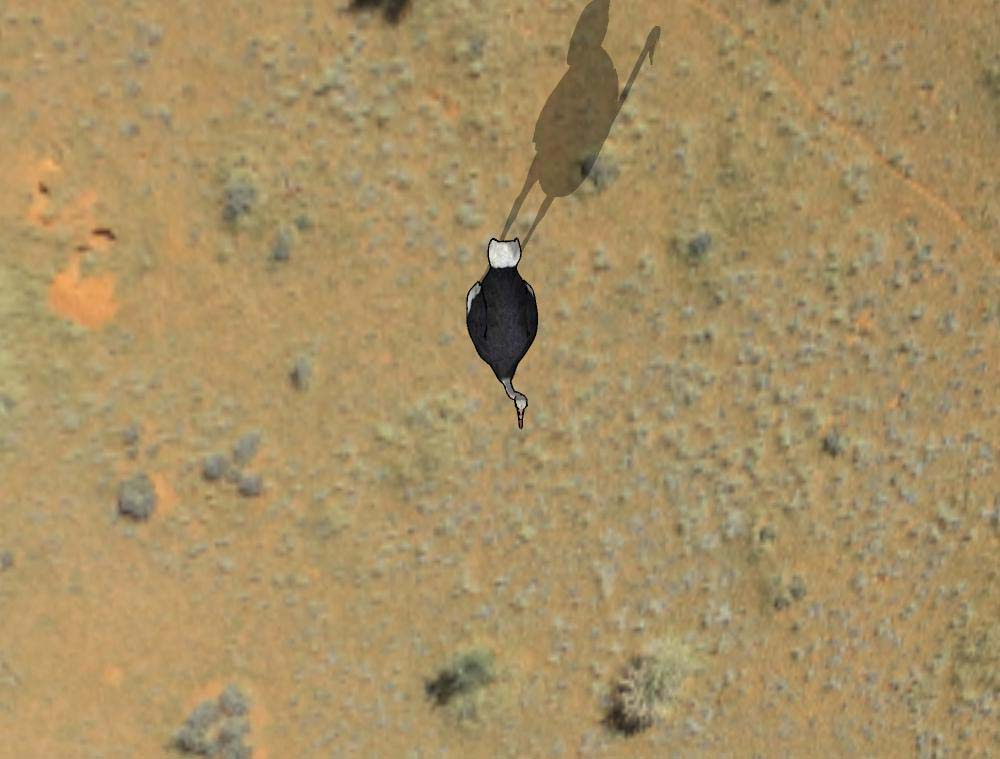ostrich: (453, 234, 551, 435)
